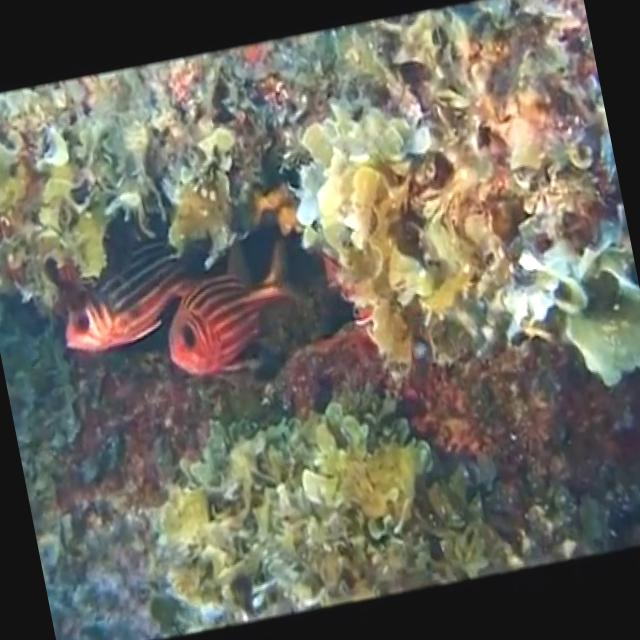Asker Baligi: (147, 250, 313, 386)
